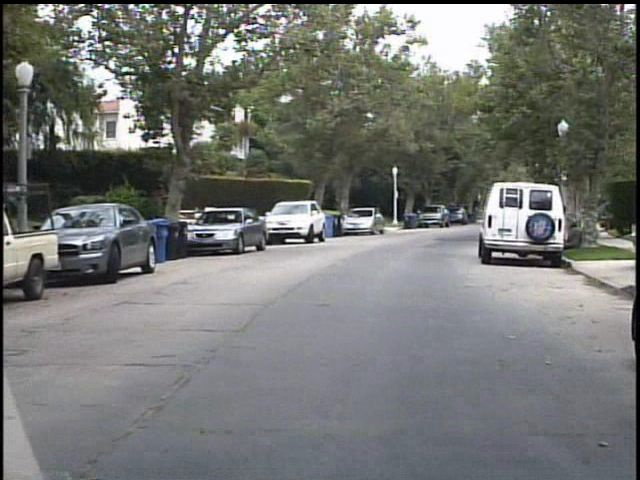person: (567, 220, 588, 253)
